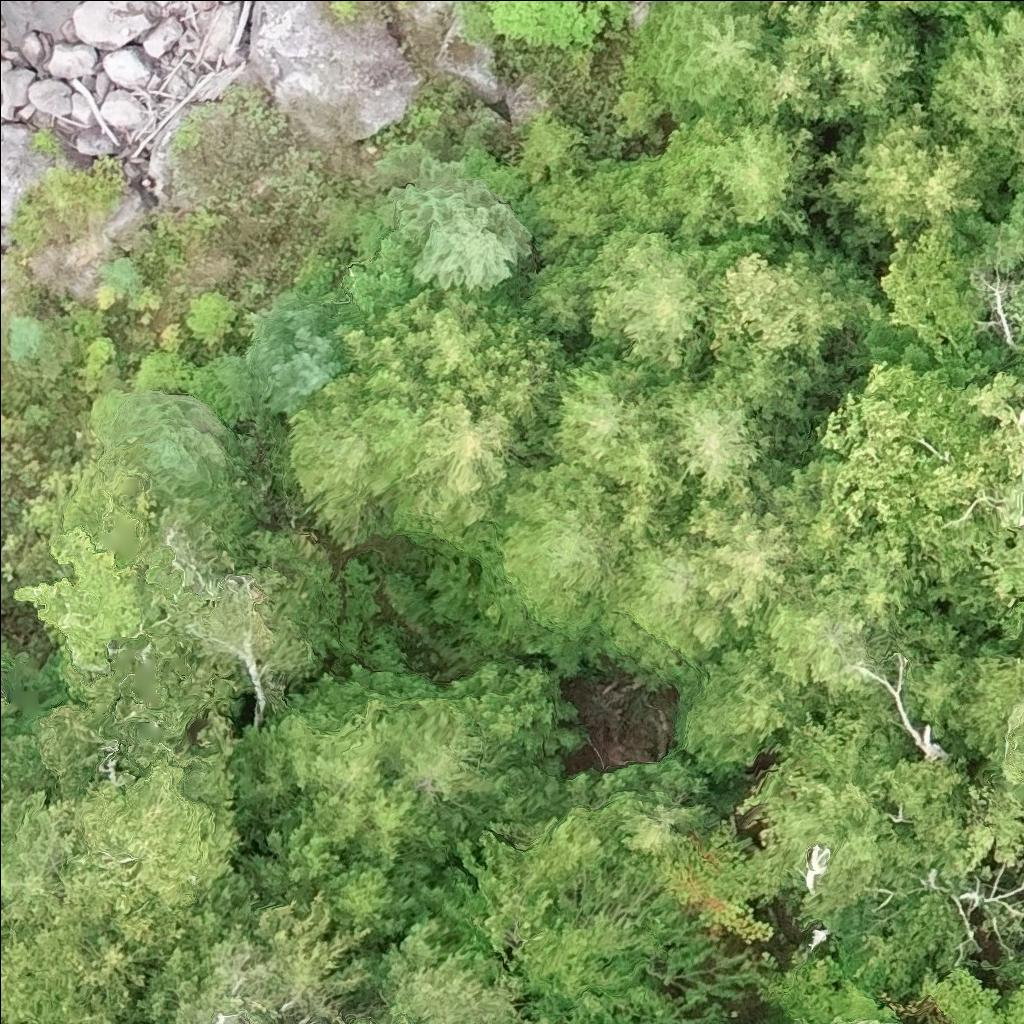crown: (737, 705, 969, 923), (506, 844, 760, 1023), (814, 362, 994, 582), (696, 236, 872, 422), (259, 705, 456, 866), (458, 458, 629, 631), (63, 760, 230, 936), (333, 282, 545, 412), (758, 458, 924, 624), (813, 98, 995, 241), (579, 219, 708, 392), (385, 154, 532, 292), (663, 486, 803, 630), (595, 535, 739, 674), (286, 370, 396, 544), (391, 390, 519, 539), (633, 0, 784, 123), (921, 3, 1023, 185), (15, 527, 144, 666), (215, 293, 351, 423), (181, 568, 322, 693), (97, 391, 246, 499), (680, 646, 801, 768), (882, 217, 983, 357), (374, 695, 499, 807), (655, 377, 769, 495), (748, 574, 870, 682), (376, 945, 526, 1023), (587, 387, 676, 495), (713, 122, 804, 224), (596, 782, 716, 859), (830, 26, 920, 123), (951, 492, 1023, 607), (494, 331, 573, 433), (749, 31, 837, 121), (552, 362, 626, 466), (966, 369, 1023, 501), (924, 969, 1023, 1023), (805, 0, 874, 70), (916, 0, 1010, 24), (97, 255, 145, 297), (0, 662, 24, 745), (7, 312, 45, 361), (832, 1018, 900, 1023), (361, 1019, 378, 1023)
